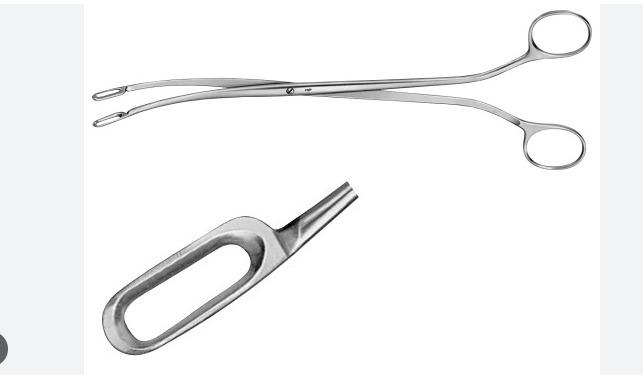Desjardin Forceps: (86, 8, 596, 179)
